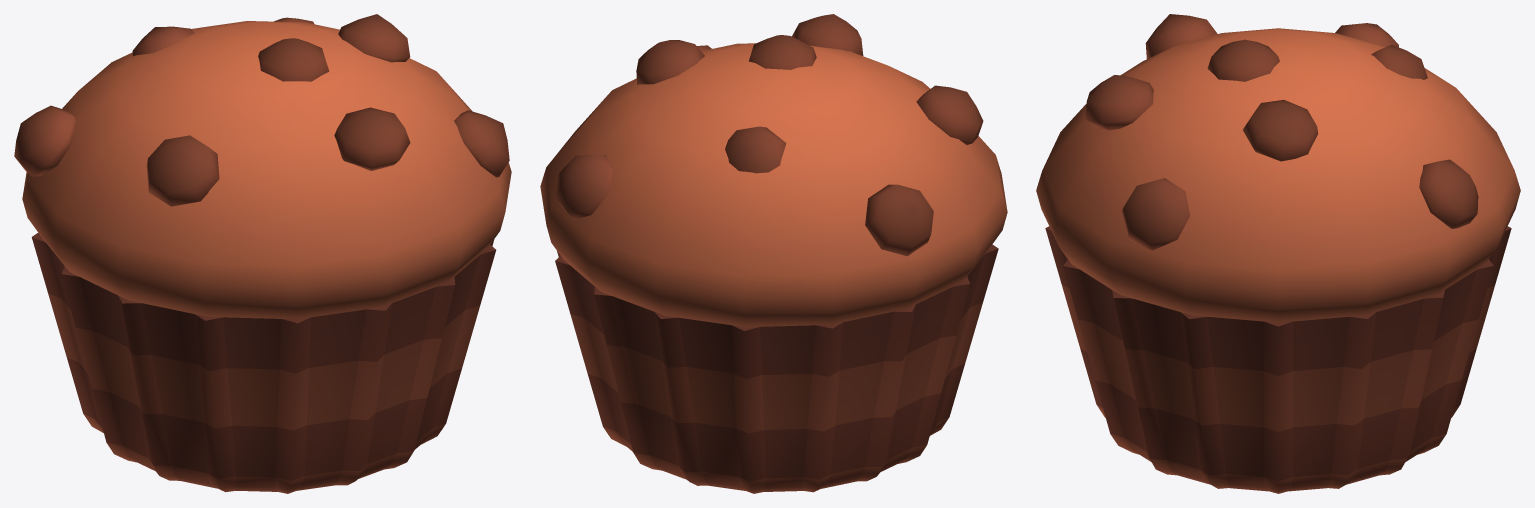
File: Cupcake_Chocalate_V1_00.fbx
The picture shows the model from 3 angles, left to right: view 1: azimuth 30°, elevation 25°; view 2: azimuth 150°, elevation 25°; view 3: azimuth 270°, elevation 25°; orthographic projection. The views are drawn at different scales.
Visible parts, largest first — view 1: Cupcake_Chocalate_V1_00; view 2: Cupcake_Chocalate_V1_00; view 3: Cupcake_Chocalate_V1_00.
Part boxes in pixels (left/top/right/bottom): Cupcake_Chocalate_V1_00: left=14, top=14, right=511, bottom=493; Cupcake_Chocalate_V1_00: left=540, top=14, right=1007, bottom=493; Cupcake_Chocalate_V1_00: left=1036, top=14, right=1520, bottom=493.
Bounding box in the file's own units: 32.49 × 29.25 × 32.49.
